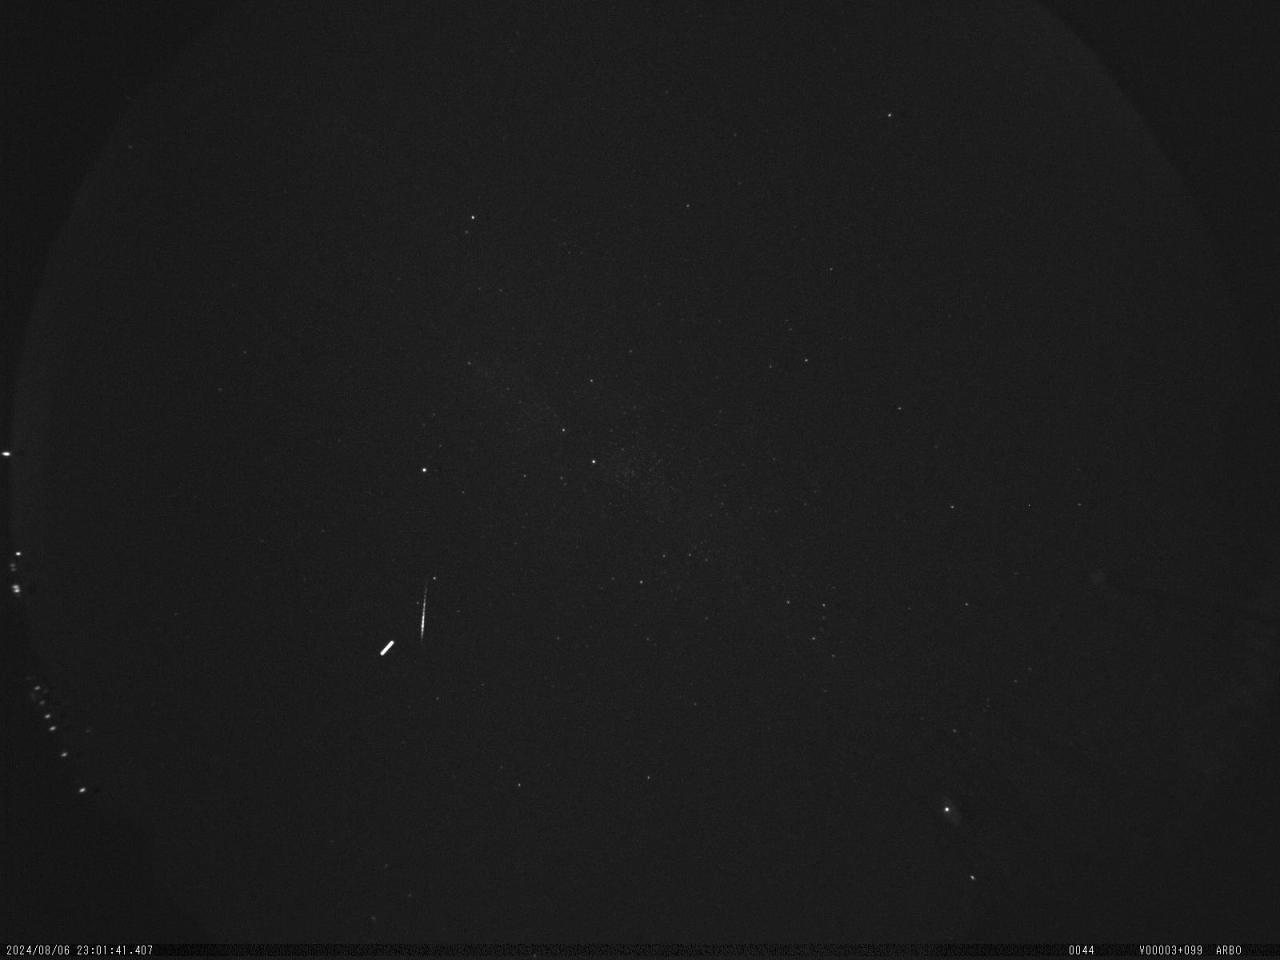Meteor: (415, 585, 430, 644)
